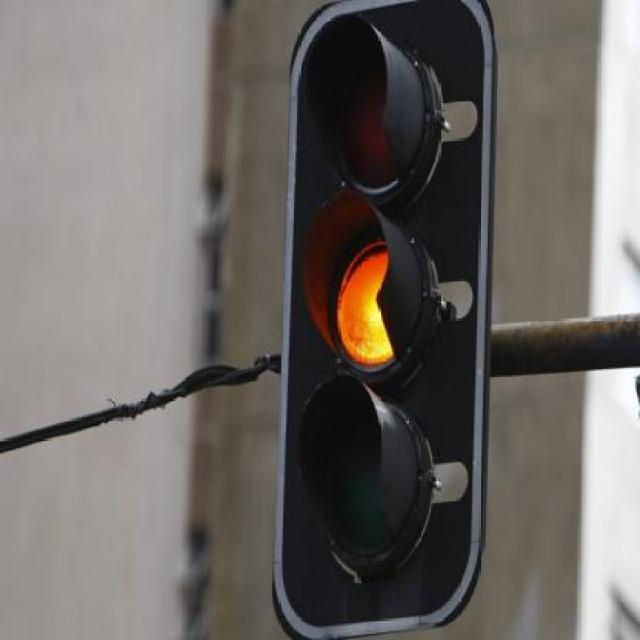yellow-light: (292, 18, 486, 631)
